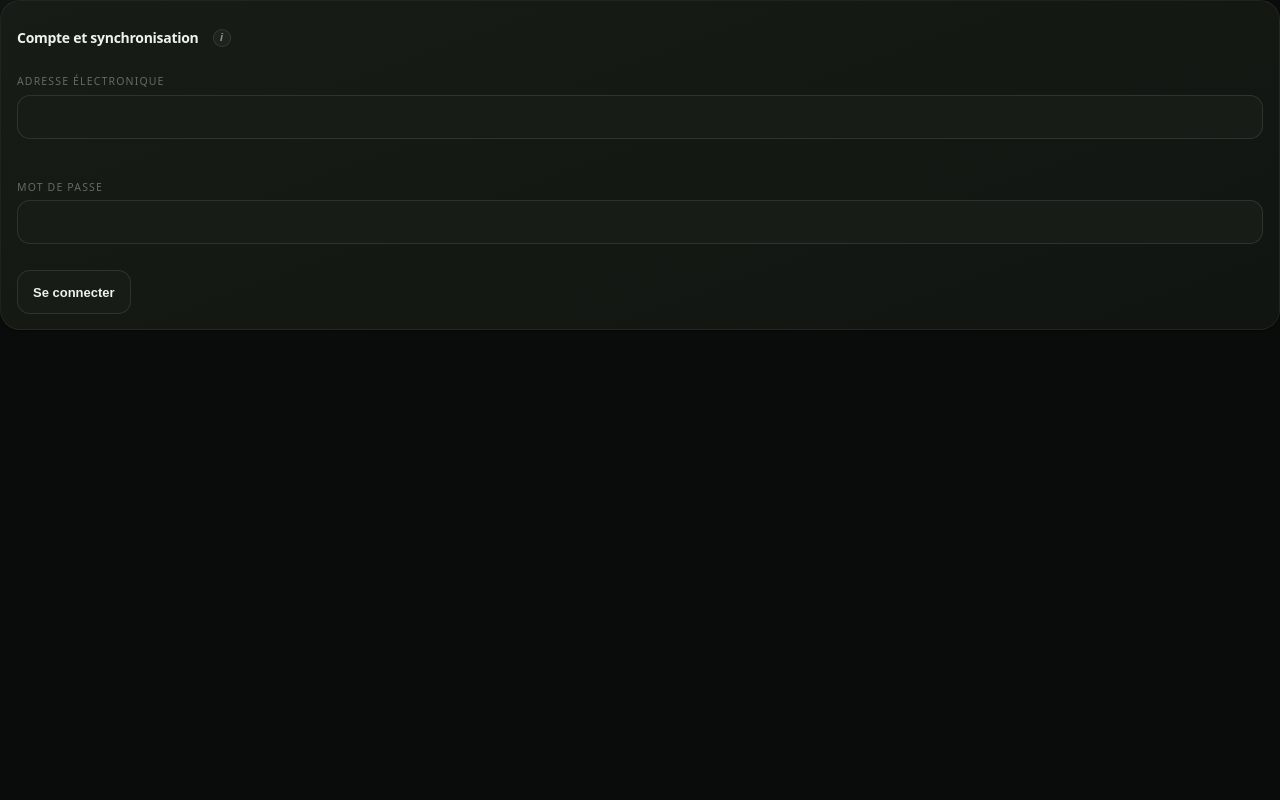
Test: envoi sur le compte › enregistre les faits de l’appareil sur un compte encore vide
Step 1. Type "demo@exemple.test" into the field labelled "Adresse électronique" → (640, 117), box top-left (17, 95), bottom-right (1263, 139)
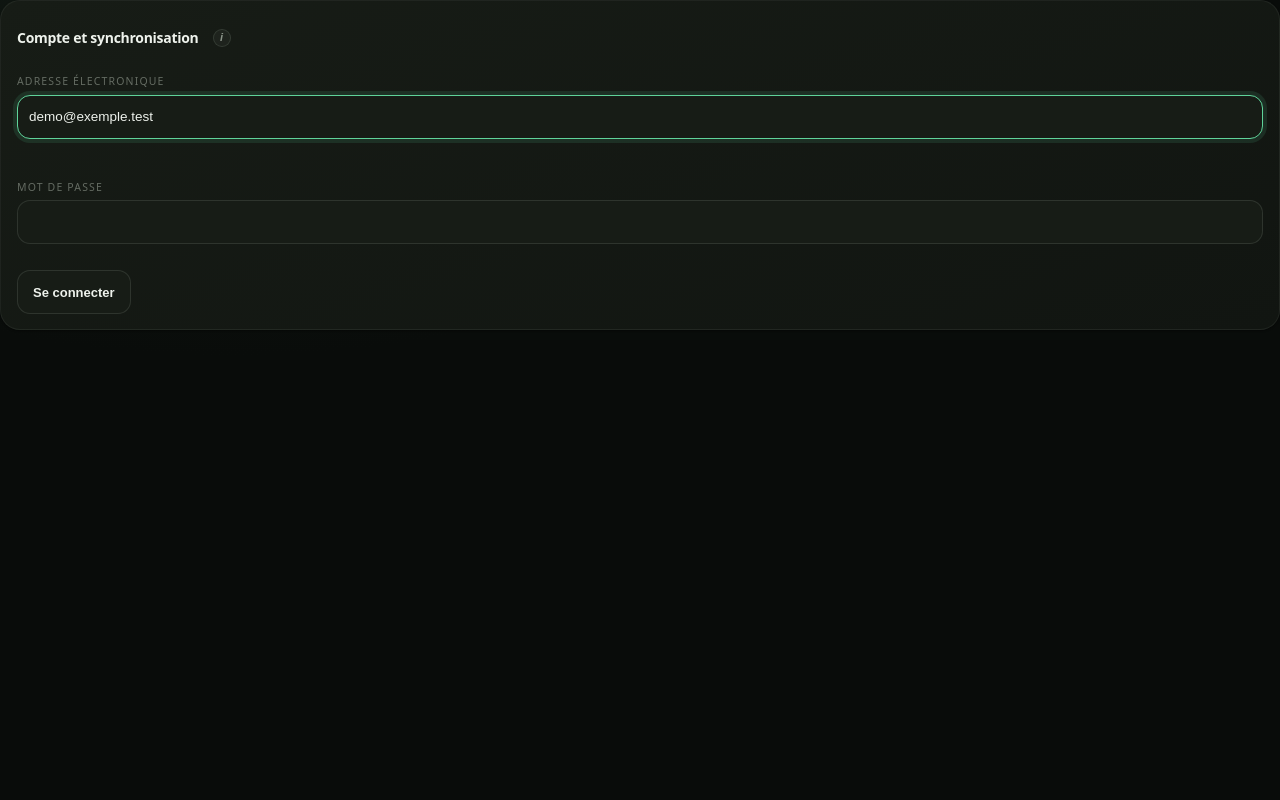
Step 2. Type "motdepasse" into the password field labelled "Mot de passe" → (640, 222), box top-left (17, 200), bottom-right (1263, 244)
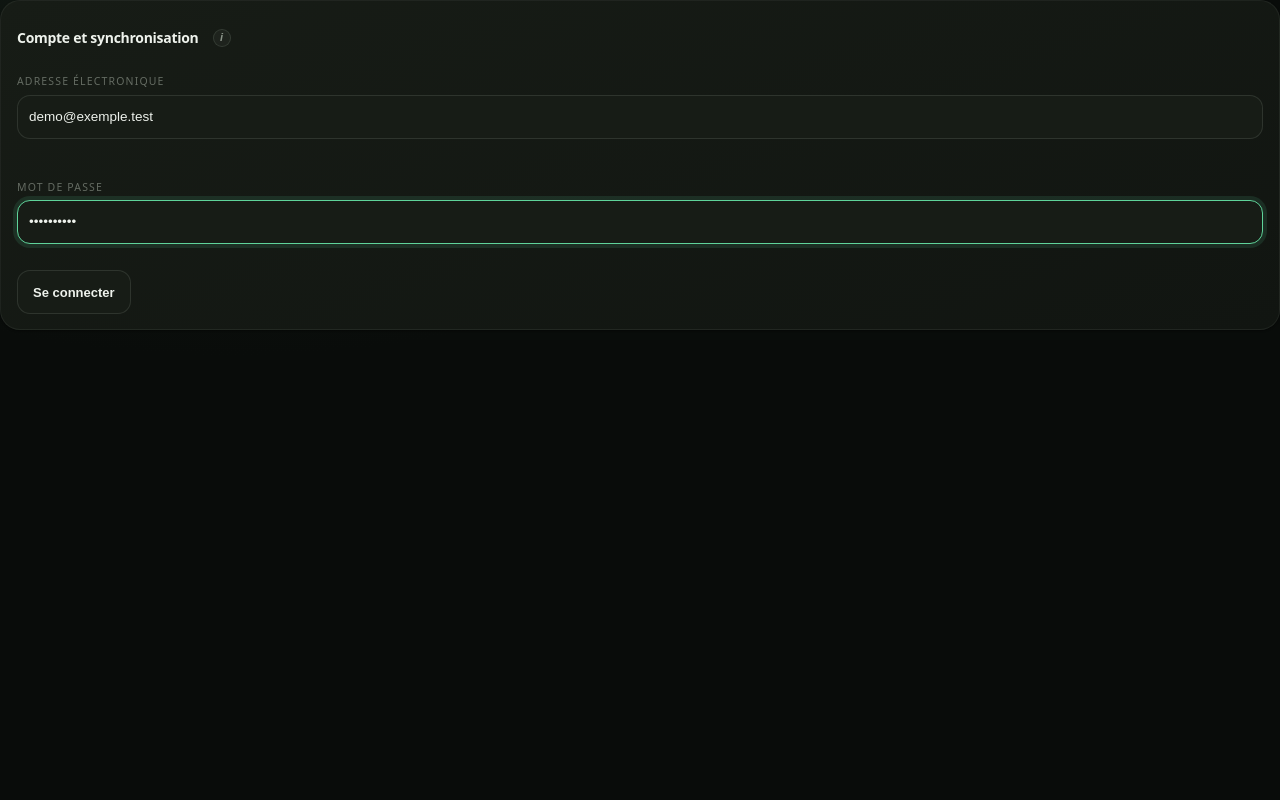
Step 3. Click the button "Se connecter" → click(74, 292), box top-left (17, 270), bottom-right (131, 314)
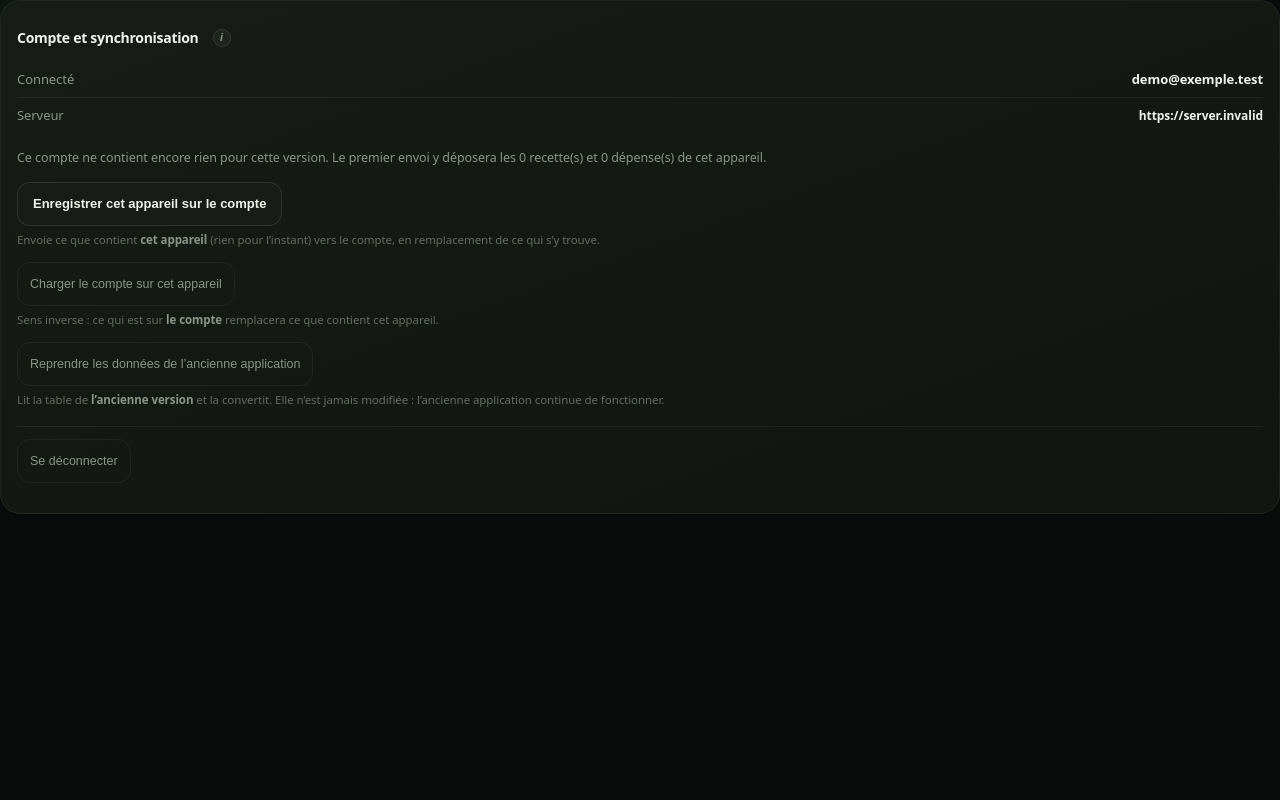
Step 4. Click the button "Enregistrer cet appareil sur le compte" → click(150, 204), box top-left (17, 182), bottom-right (282, 226)
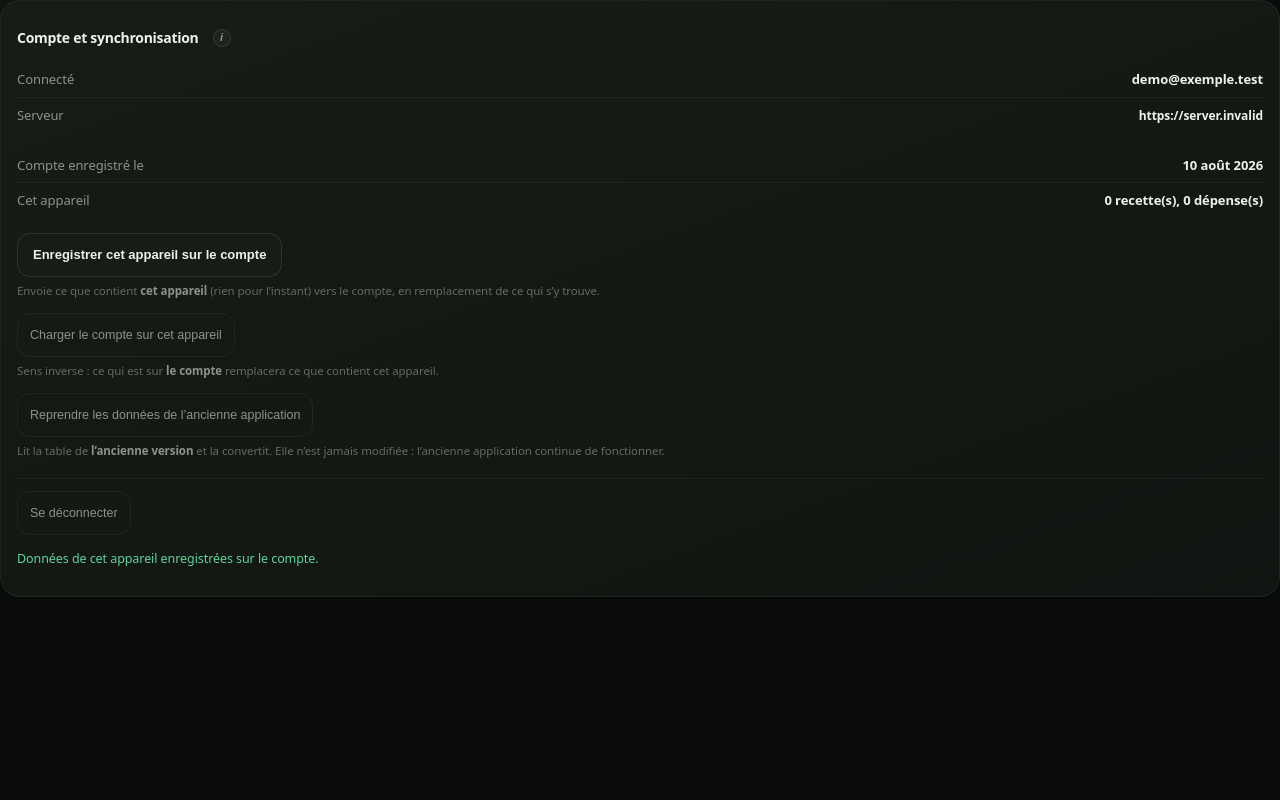
Expected: the message shows "enregistrées sur le compte", top-left (17, 550), bottom-right (318, 567)
